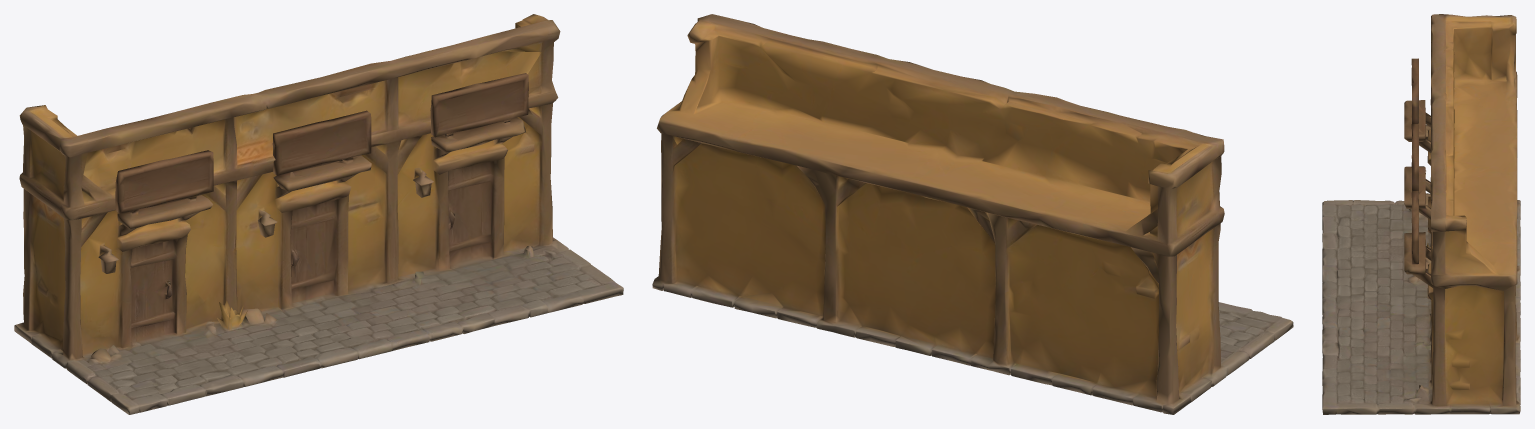
File: market_shopfront.glb
The picture shows the model from 3 angles, left to right: view 1: azimuth 30°, elevation 25°; view 2: azimuth 150°, elevation 25°; view 3: azimuth 270°, elevation 25°; orthographic projection. The views are drawn at different scales.
Parts seen in each view (by area): view 1: tripo_node_22cd9b07-fe81-4d3a-a3fb-602be77c4666; view 2: tripo_node_22cd9b07-fe81-4d3a-a3fb-602be77c4666; view 3: tripo_node_22cd9b07-fe81-4d3a-a3fb-602be77c4666.
Boxes of the visible parts, bbox=[...] form: tripo_node_22cd9b07-fe81-4d3a-a3fb-602be77c4666: bbox=[14, 14, 623, 414]; tripo_node_22cd9b07-fe81-4d3a-a3fb-602be77c4666: bbox=[652, 14, 1293, 414]; tripo_node_22cd9b07-fe81-4d3a-a3fb-602be77c4666: bbox=[1322, 14, 1520, 414].
Bounding box in the file's own units: 1 × 0.4327 × 0.4014.
Materials: 1 (1 with a texture image).
